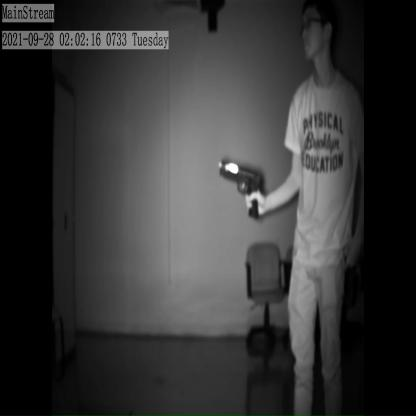weapon: (217, 152, 265, 224)
